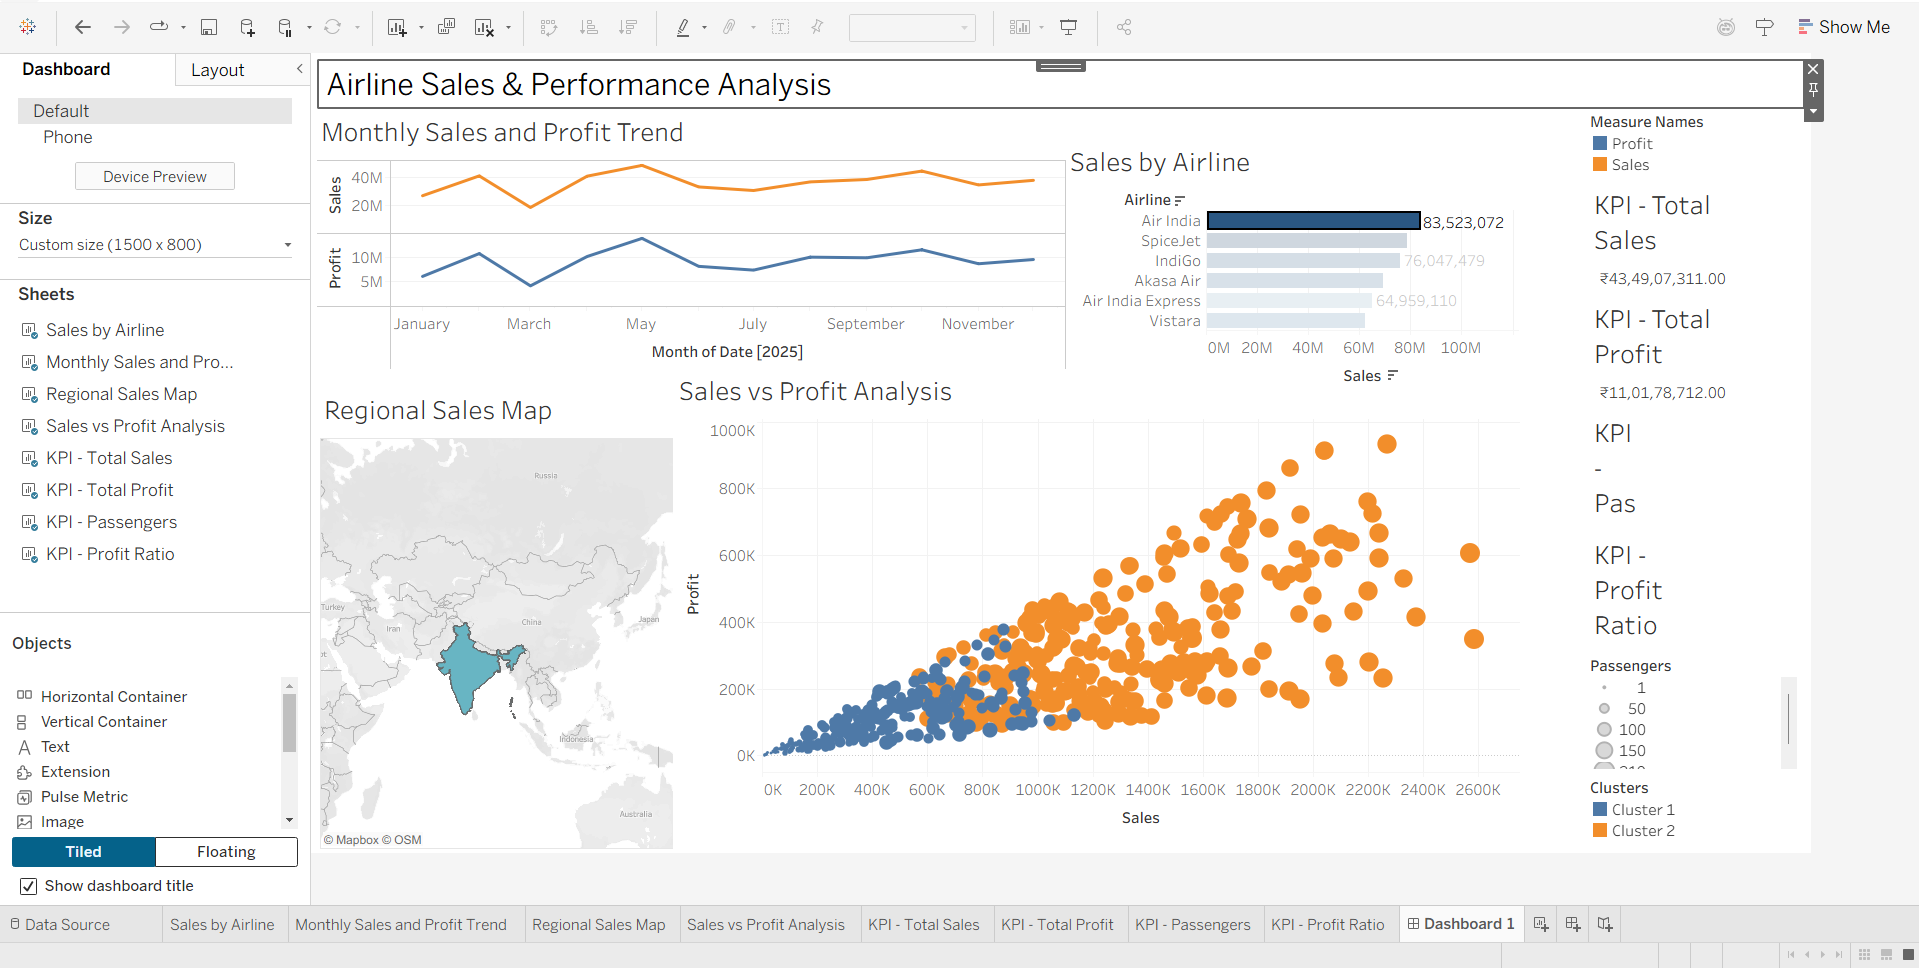

Layout of this report page (visuals, bound fields, positions):
{"tool":"tableau","page":{"name":"Dashboard 1","canvas":[1500,800],"ordinal":0},"visuals":[{"type":"title","box":[8,8,1484,46]},{"type":"legend","title":"Monthly Sales and Profit Trend","param":"[federated.0tjcc940i39o4d1392k701qai66b].[:Measure Names]","box":[1275,54,217,72]},{"type":"worksheet","title":"Monthly Sales and Profit Trend","mark":"Line","rows":["Sales","Profit"],"cols":["Date"],"box":[6.3,57,748.8,260]},{"type":"worksheet","title":"Sales by Airline","mark":"Automatic","rows":["Airline"],"cols":["Sales"],"box":[755,87,452.5,277]},{"type":"worksheet","title":"KPI - Total Sales","mark":"Automatic","box":[1275,126,217,114]},{"type":"worksheet","title":"KPI - Total Profit","mark":"Automatic","box":[1275,240,217,114]},{"type":"worksheet","title":"Sales vs Profit Analysis","mark":"Circle","rows":["Profit"],"cols":["Sales"],"box":[363.8,316,845,466]},{"type":"worksheet","title":"Regional Sales Map","mark":"Automatic","box":[8.7,335,353.7,461]},{"type":"worksheet","title":"KPI - Passengers","mark":"Automatic","box":[1275,354,217,122]},{"type":"worksheet","title":"KPI - Profit Ratio","mark":"Automatic","box":[1275,476,217,122]},{"type":"legend","title":"Sales vs Profit Analysis","param":"[federated.0tjcc940i39o4d1392k701qai66b].[attr:Passengers:qk]","box":[1275,598,217,122]},{"type":"legend","title":"Sales vs Profit Analysis","param":"[federated.0tjcc940i39o4d1392k701qai66b].[none:AdhocCluster:1:ok]","box":[1275,720,217,72]}]}

Visuals, with their boxes on the page's 1500x800 design canvas (x1, y1, x2, y2). These are canvas units, not pixel positions in the 1919x968 screenshot, which may show the page scaled, cropped or inside an application window:
title: x1=8, y1=8, x2=1492, y2=54
"Monthly Sales and Profit Trend" legend: x1=1275, y1=54, x2=1492, y2=126
"Monthly Sales and Profit Trend" worksheet (Line marks): x1=6, y1=57, x2=755, y2=317
"Sales by Airline" worksheet: x1=755, y1=87, x2=1208, y2=364
"KPI - Total Sales" worksheet: x1=1275, y1=126, x2=1492, y2=240
"KPI - Total Profit" worksheet: x1=1275, y1=240, x2=1492, y2=354
"Sales vs Profit Analysis" worksheet (Circle marks): x1=364, y1=316, x2=1209, y2=782
"Regional Sales Map" worksheet: x1=9, y1=335, x2=362, y2=796
"KPI - Passengers" worksheet: x1=1275, y1=354, x2=1492, y2=476
"KPI - Profit Ratio" worksheet: x1=1275, y1=476, x2=1492, y2=598
"Sales vs Profit Analysis" legend: x1=1275, y1=598, x2=1492, y2=720
"Sales vs Profit Analysis" legend: x1=1275, y1=720, x2=1492, y2=792
